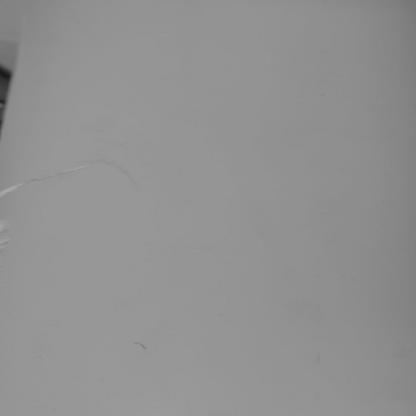sunshang: (1, 168, 88, 200)
